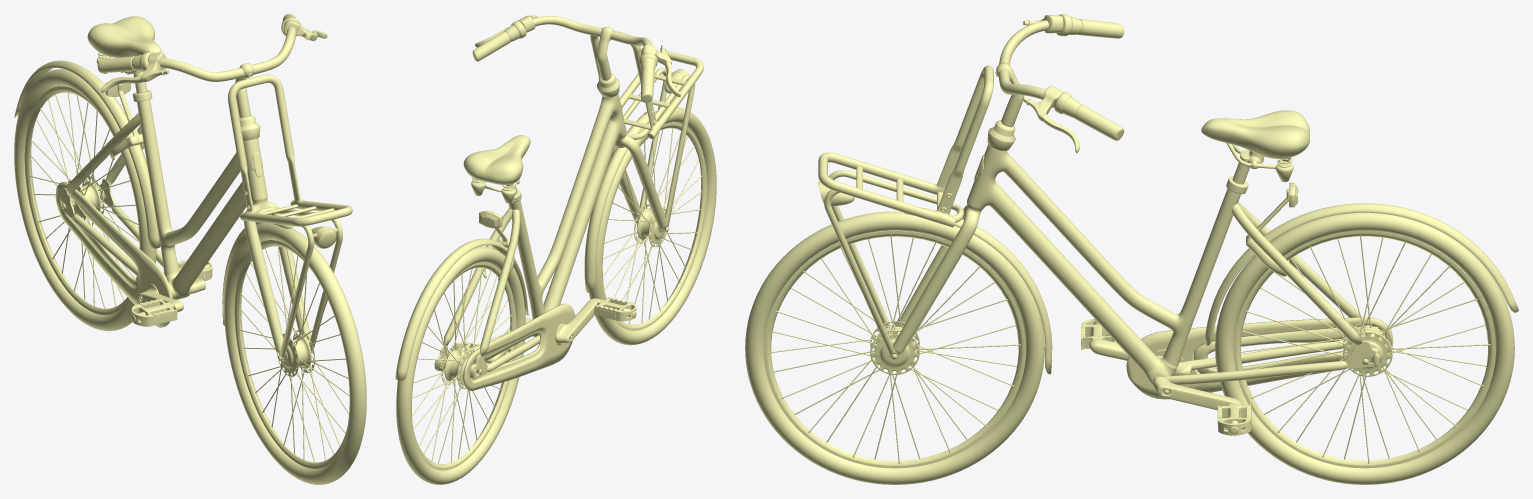
The model's file is MangaKa Props - M_R_Bicycles_03.glb.
The picture shows the model from 3 angles, left to right: view 1: azimuth 30°, elevation 25°; view 2: azimuth 150°, elevation 25°; view 3: azimuth 270°, elevation 25°; orthographic projection. The views are drawn at different scales.
Parts seen in each view (by area): view 1: M_R_Bicycles_03_blueScreen, M_R_Bicycles_03_Steering_blueScreen, M_R_Bicycles_03_FWheel_blueScreen, M_R_Bicycles_03_BWheel_blueScreen, M_R_Bicycles_03_FWheelMetal_blueScreen, M_R_Bicycles_03_BWheelMetal_blueScreen, M_R_Bicycles_03_Seat_blueScreen, M_R_Bicycles_03_Paddles_R_blueScreen, M_R_Bicycles_03_Handle_blueScreen, M_R_Bicycles_03_Paddles_blueScreen; view 2: M_R_Bicycles_03_blueScreen, M_R_Bicycles_03_Steering_blueScreen, M_R_Bicycles_03_BWheel_blueScreen, M_R_Bicycles_03_FWheel_blueScreen, M_R_Bicycles_03_FWheelMetal_blueScreen, M_R_Bicycles_03_BWheelMetal_blueScreen, M_R_Bicycles_03_Seat_blueScreen, M_R_Bicycles_03_Handle_blueScreen, M_R_Bicycles_03_Paddles_blueScreen, M_R_Bicycles_03_Paddles_R_blueScreen; view 3: M_R_Bicycles_03_blueScreen, M_R_Bicycles_03_Steering_blueScreen, M_R_Bicycles_03_FWheel_blueScreen, M_R_Bicycles_03_BWheel_blueScreen, M_R_Bicycles_03_FWheelMetal_blueScreen, M_R_Bicycles_03_BWheelMetal_blueScreen, M_R_Bicycles_03_Seat_blueScreen, M_R_Bicycles_03_Handle_blueScreen, M_R_Bicycles_03_Paddles_blueScreen, M_R_Bicycles_03_Paddles_L_blueScreen.
Part boxes in pixels (x1,y1,x2,y2): M_R_Bicycles_03_blueScreen: (14, 52, 267, 327); M_R_Bicycles_03_Steering_blueScreen: (101, 19, 352, 361); M_R_Bicycles_03_FWheel_blueScreen: (224, 223, 366, 484); M_R_Bicycles_03_BWheel_blueScreen: (14, 69, 156, 331); M_R_Bicycles_03_FWheelMetal_blueScreen: (234, 240, 349, 468); M_R_Bicycles_03_BWheelMetal_blueScreen: (24, 86, 139, 315); M_R_Bicycles_03_Seat_blueScreen: (87, 16, 161, 57); M_R_Bicycles_03_Paddles_R_blueScreen: (131, 298, 177, 326); M_R_Bicycles_03_Handle_blueScreen: (97, 14, 300, 72); M_R_Bicycles_03_Paddles_blueScreen: (138, 272, 205, 311); M_R_Bicycles_03_blueScreen: (395, 93, 626, 390); M_R_Bicycles_03_Steering_blueScreen: (475, 14, 703, 292); M_R_Bicycles_03_BWheel_blueScreen: (396, 246, 525, 484); M_R_Bicycles_03_FWheel_blueScreen: (589, 107, 716, 345); M_R_Bicycles_03_FWheelMetal_blueScreen: (603, 122, 707, 330); M_R_Bicycles_03_BWheelMetal_blueScreen: (412, 262, 516, 470); M_R_Bicycles_03_Seat_blueScreen: (463, 135, 530, 184); M_R_Bicycles_03_Handle_blueScreen: (472, 20, 657, 102); M_R_Bicycles_03_Paddles_blueScreen: (485, 298, 600, 363); M_R_Bicycles_03_Paddles_R_blueScreen: (594, 297, 636, 321); M_R_Bicycles_03_blueScreen: (967, 143, 1518, 399); M_R_Bicycles_03_Steering_blueScreen: (818, 15, 1079, 374); M_R_Bicycles_03_FWheel_blueScreen: (745, 211, 1044, 484); M_R_Bicycles_03_BWheel_blueScreen: (1215, 213, 1514, 484); M_R_Bicycles_03_FWheelMetal_blueScreen: (763, 231, 1025, 468); M_R_Bicycles_03_BWheelMetal_blueScreen: (1233, 230, 1495, 468); M_R_Bicycles_03_Seat_blueScreen: (1201, 110, 1309, 158); M_R_Bicycles_03_Handle_blueScreen: (1054, 14, 1124, 140); M_R_Bicycles_03_Paddles_blueScreen: (1089, 339, 1242, 410); M_R_Bicycles_03_Paddles_L_blueScreen: (1217, 403, 1251, 435).
Size of the model in its own units: 0.5806 by 0.9478 by 1.53.
